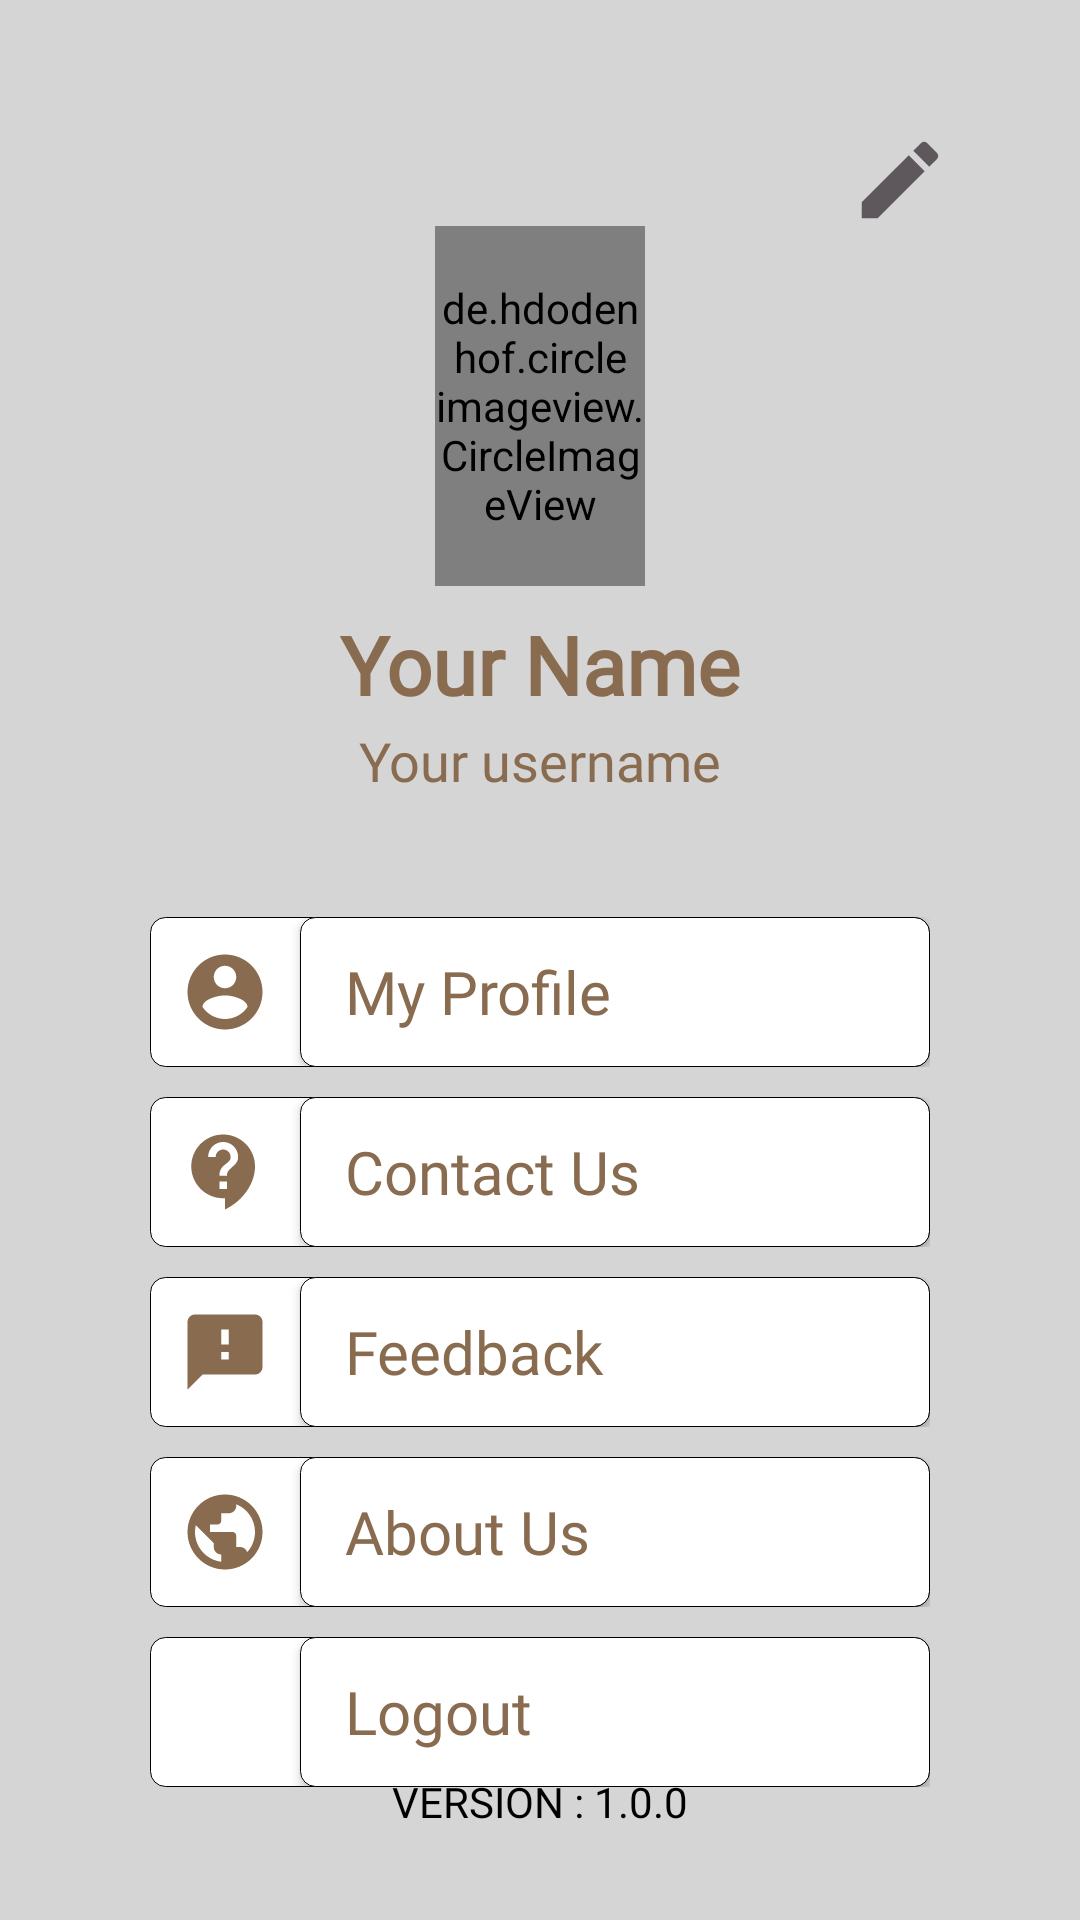

Icons on this 1080px x 1920px Android screen, each with its box as (x1, y1, x2, y2):
account: (150, 917, 300, 1067)
edit: (861, 142, 938, 219)
